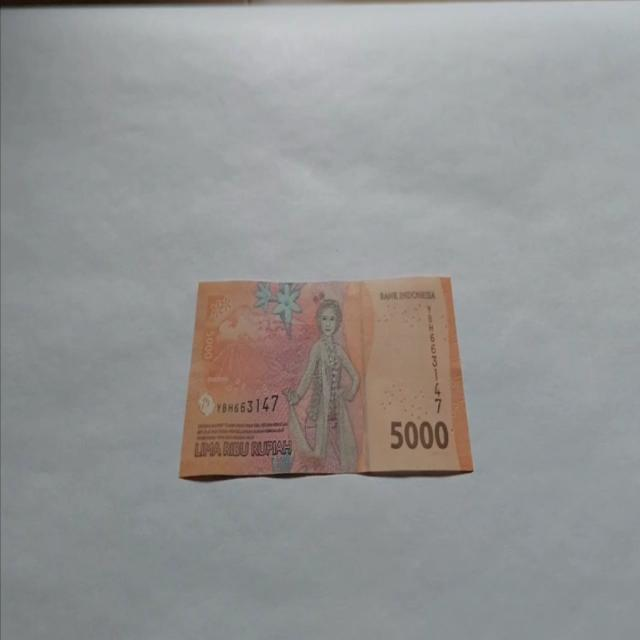lima ribu rupiah: (178, 275, 474, 481), (280, 297, 362, 473)
